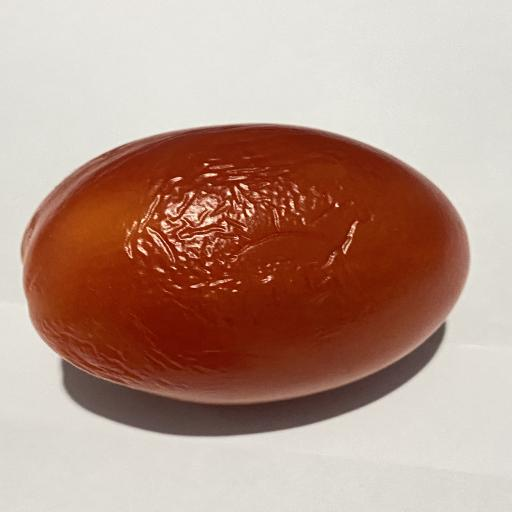spoiled: (23, 125, 468, 404)
